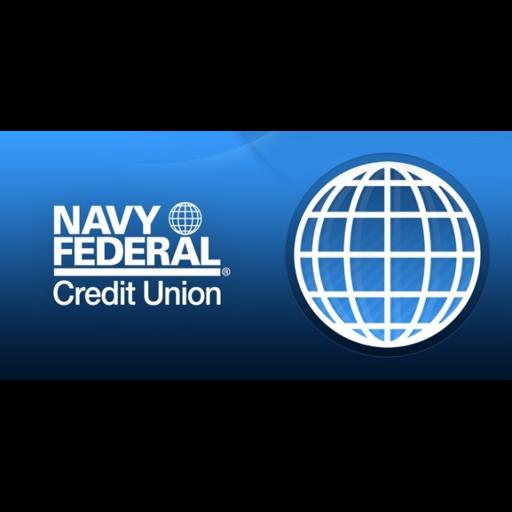Navy Federal Credit Union: (0, 131, 512, 380)
